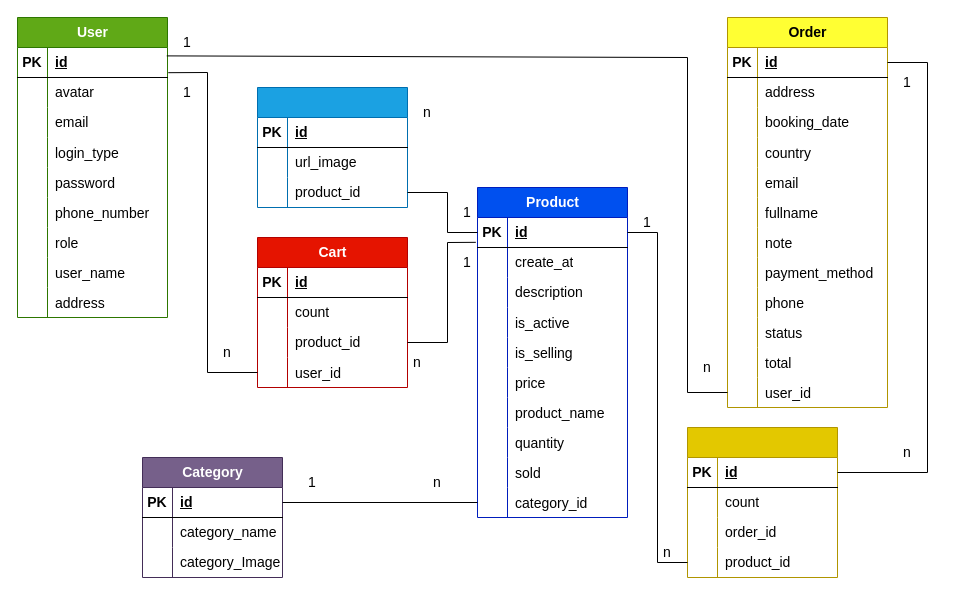
Image size: 955x595. Some labels were removed from this diagram. The shapes that lost their labels are listed below. From the top down, each one's box as (x1, y1, x2, y2) in pixels, then its label:
(256, 86, 408, 208): Product_image
(686, 426, 838, 578): Order_item
